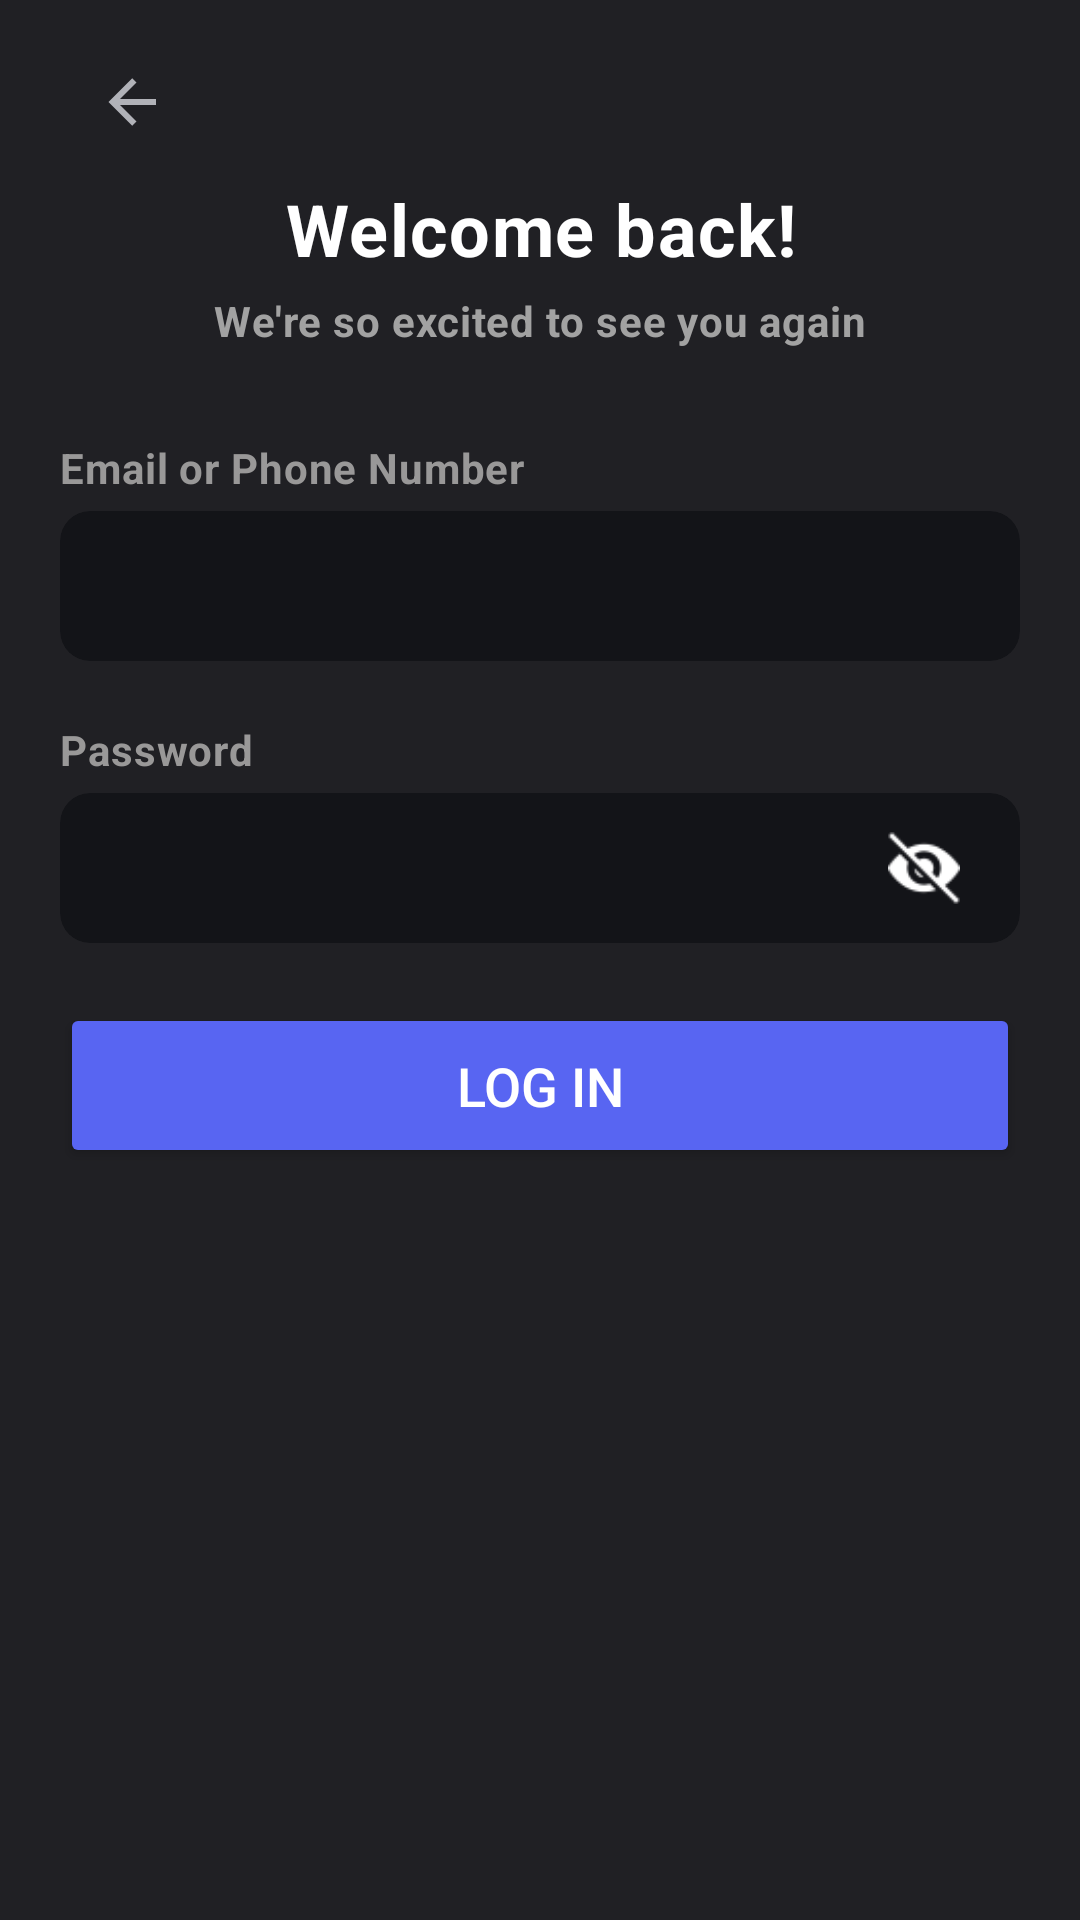

Screen size 1080 × 1920. Icon name, then its box in pixels as [left=x1, top=y1, right=x2, bottom=y2]:
Toggle password visibility: [left=888, top=832, right=960, bottom=904]
